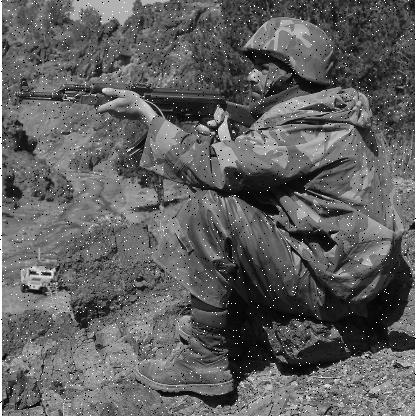gun: (11, 78, 257, 156)
